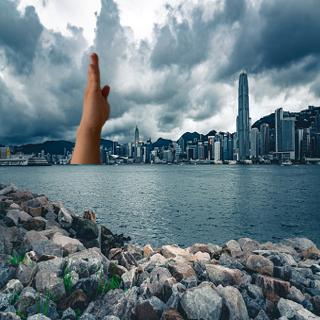RIGHT: (74, 49, 115, 133)
